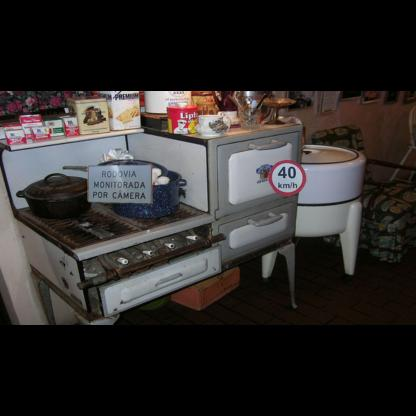I-E: (87, 164, 152, 205)
R-19: (268, 160, 306, 196)
